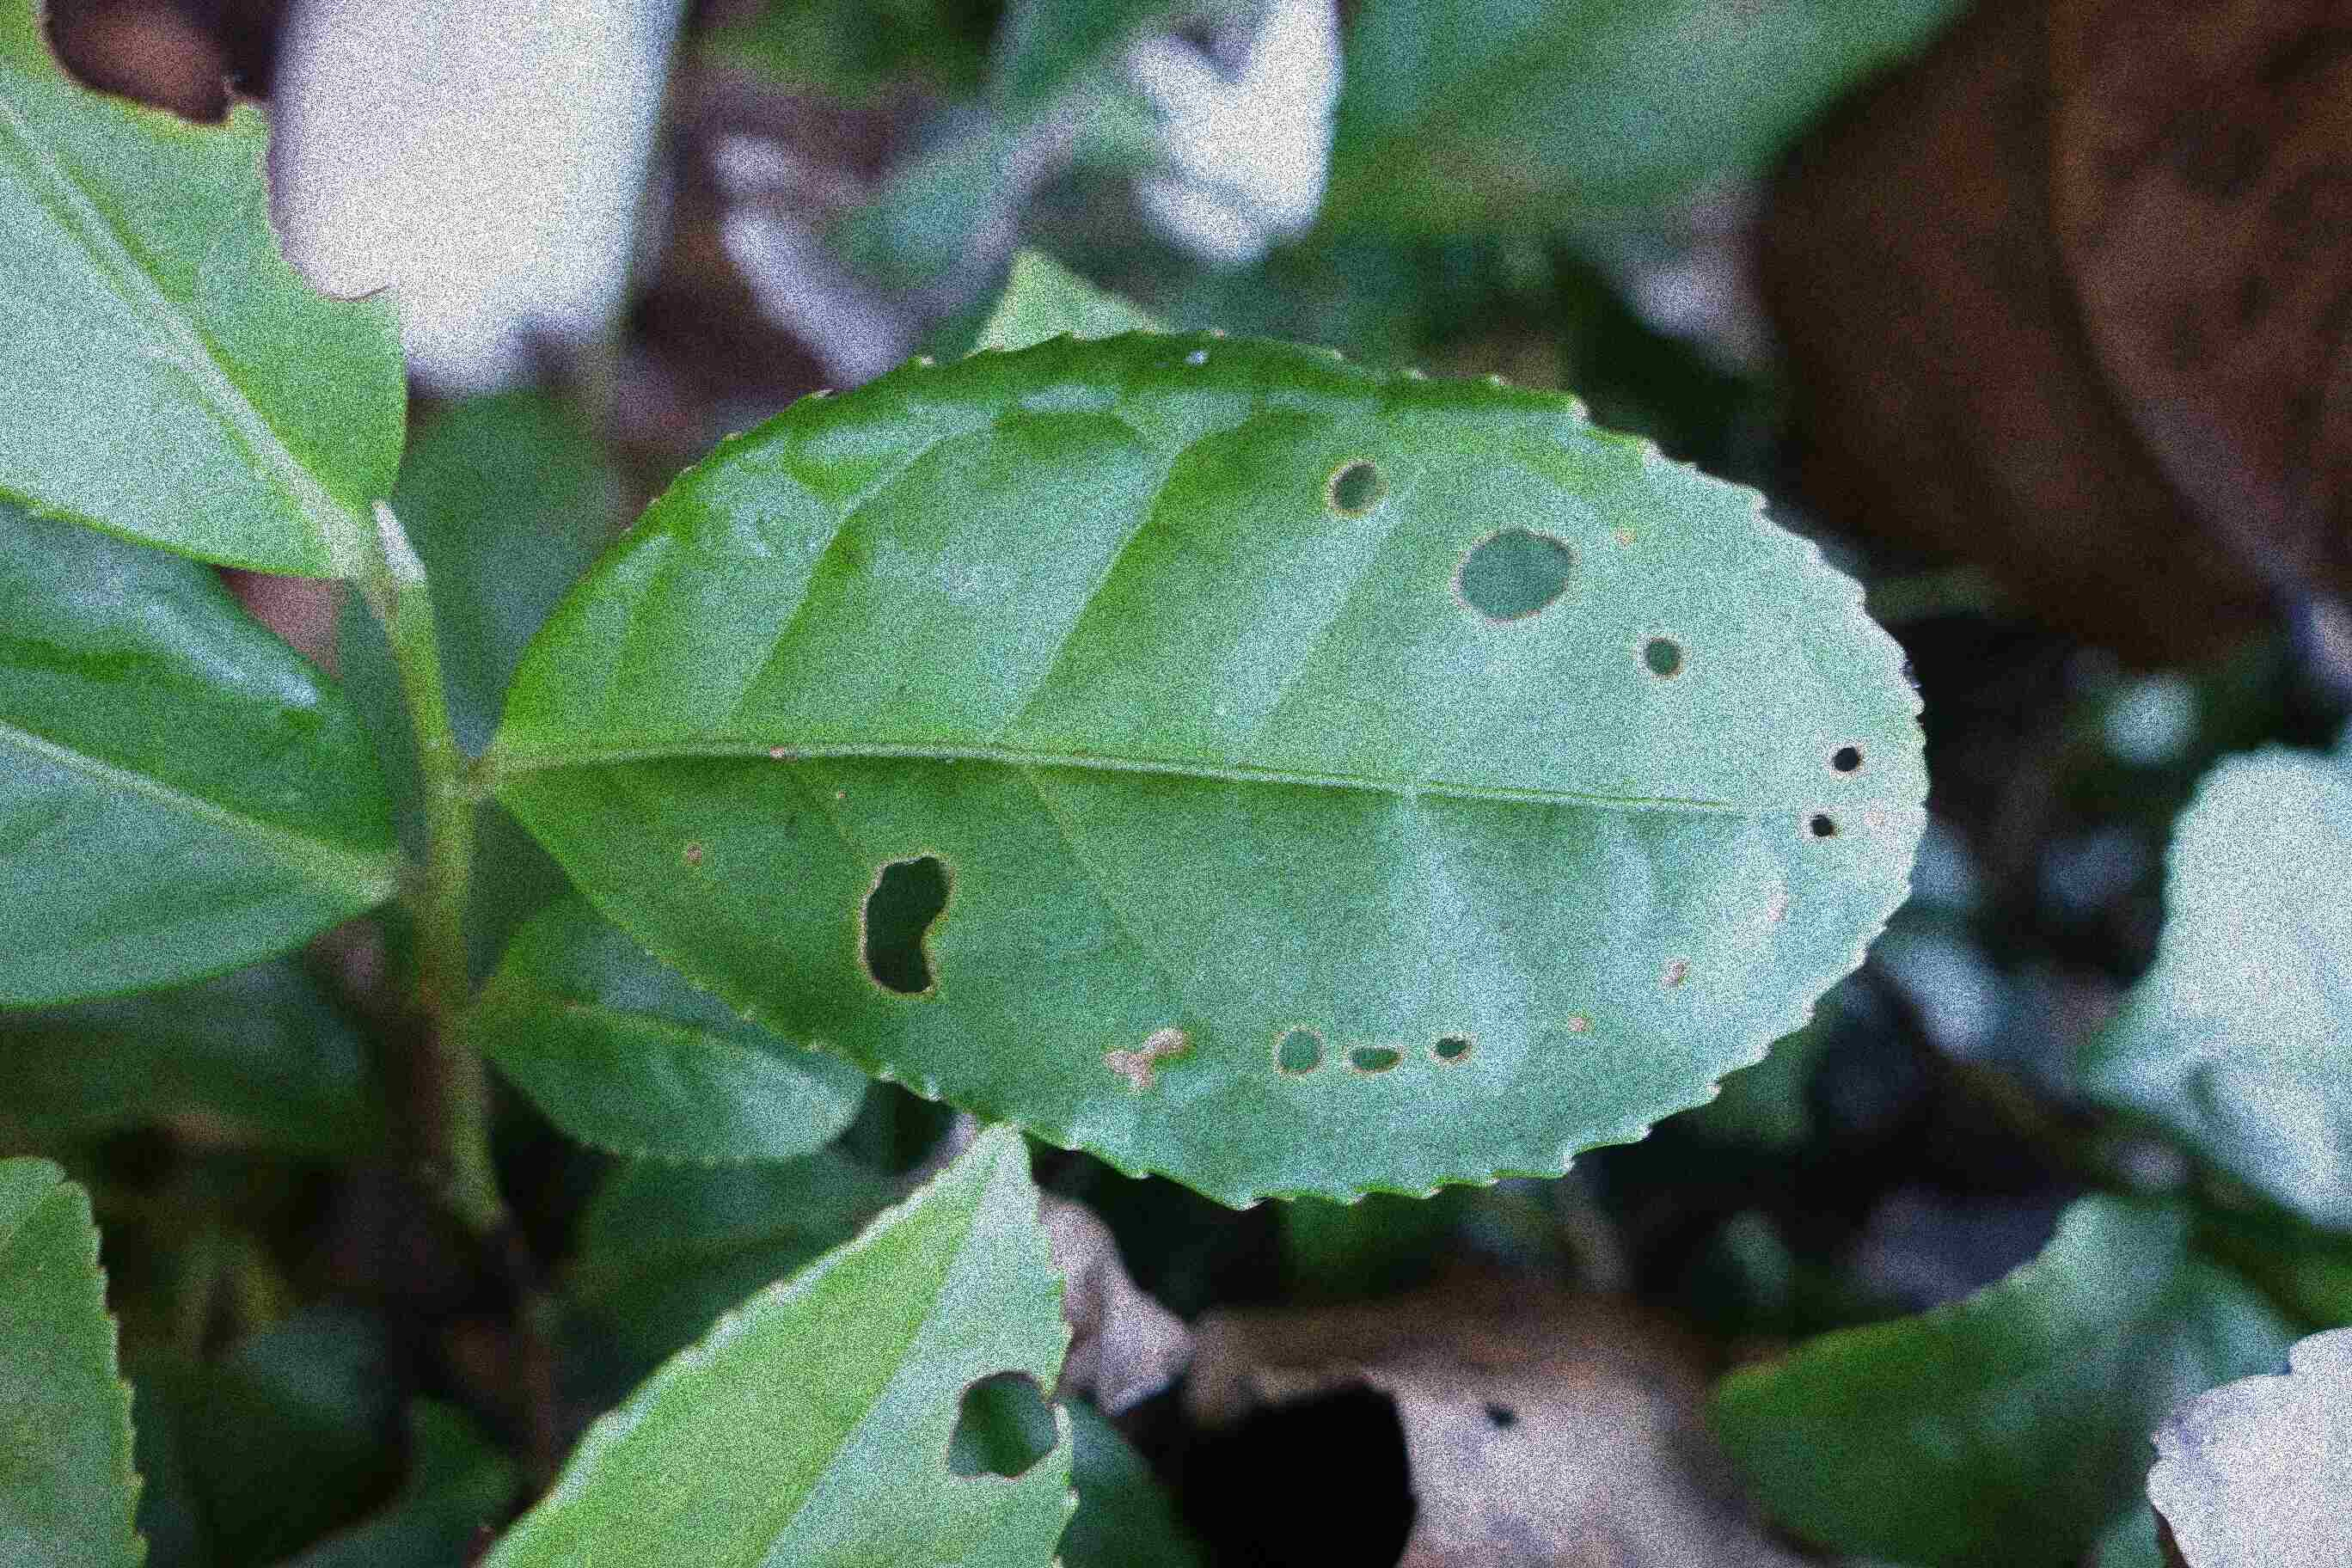chihuo_high: (479, 331, 1934, 1216), (3, 3, 413, 577)
chihuo_low: (483, 1123, 1080, 1566)
